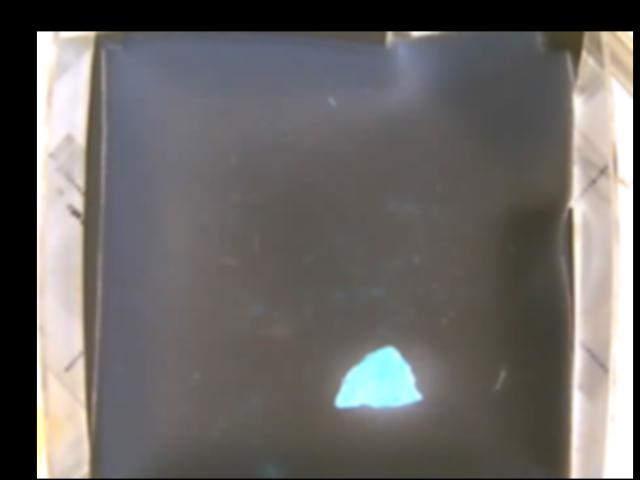Brisk: (334, 345, 425, 409)
